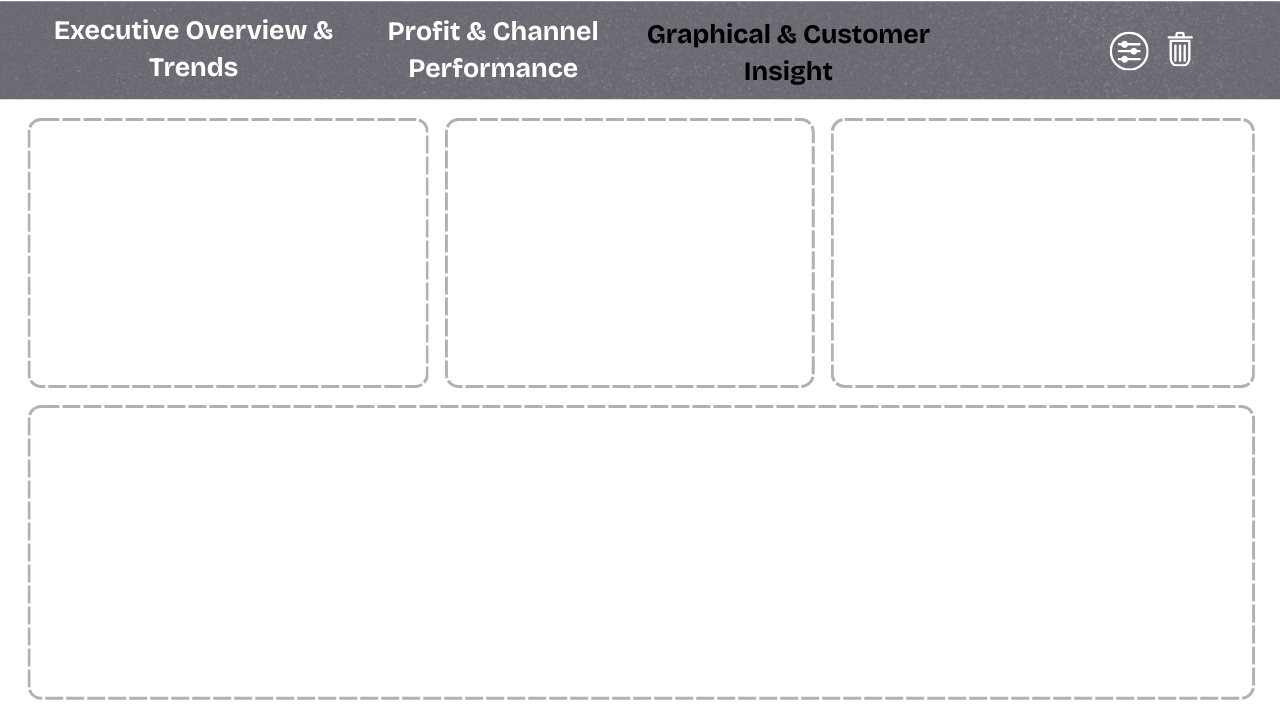

The dashboard page shown, as its layout file describes it:
{"tool":"powerbi","page":{"name":"Customer_Insight","canvas":[1280,720],"ordinal":3},"visuals":[{"type":"actionButton","box":[49.5,12.1,296.8,79.6],"z":0},{"type":"actionButton","box":[377.6,12.1,235.3,79.6],"z":1000},{"type":"barChart","fields":{"Category":["Sales_data(EDA Exported).customer_name"],"Y":["Customer Summary.Total Revenue"]},"box":[35,126.7,384.9,254.6],"z":2000},{"type":"barChart","fields":{"Category":["Sales_data(EDA Exported).state_name"],"Y":["Customer Summary.Total Revenue"]},"box":[839.7,126.7,407.8,255.8],"z":3000},{"type":"barChart","fields":{"Category":["Sales_data(EDA Exported).customer_name"],"Y":["Customer Summary.Profit Margin %"]},"box":[457.2,126.7,345,254.6],"z":4000},{"type":"donutChart","fields":{"Category":["Sales_data(EDA Exported).us_region"],"Y":["Customer Summary.Total Revenue"]},"box":[49.5,428.3,384.9,254.6],"z":5000},{"type":"donutChart","fields":{"Category":["Sales_data(EDA Exported).us_region"],"Y":["Customer Summary.Profit Margin %"]},"box":[434.3,429.5,384.9,254.6],"z":6000},{"type":"map","fields":{"Category":["Sales_data(EDA Exported).state"],"Size":["Customer Summary.Total Profit"]},"box":[827.6,417.4,407.8,265.4],"z":7000}]}

Visuals, with their boxes on the page's 1280x720 design canvas (x1, y1, x2, y2). These are canvas units, not pixel positions in the 1280x720 screenshot, which may show the page scaled, cropped or inside an application window:
actionButton: detection(50, 12, 346, 92)
actionButton: detection(378, 12, 613, 92)
barChart - Sales_data(EDA Exported).customer_name x Customer Summary.Total Revenue: detection(35, 127, 420, 381)
barChart - Sales_data(EDA Exported).state_name x Customer Summary.Total Revenue: detection(840, 127, 1248, 382)
barChart - Sales_data(EDA Exported).customer_name x Customer Summary.Profit Margin %: detection(457, 127, 802, 381)
donutChart - Sales_data(EDA Exported).us_region x Customer Summary.Total Revenue: detection(50, 428, 434, 683)
donutChart - Sales_data(EDA Exported).us_region x Customer Summary.Profit Margin %: detection(434, 430, 819, 684)
map - Sales_data(EDA Exported).state x Customer Summary.Total Profit: detection(828, 417, 1235, 683)
